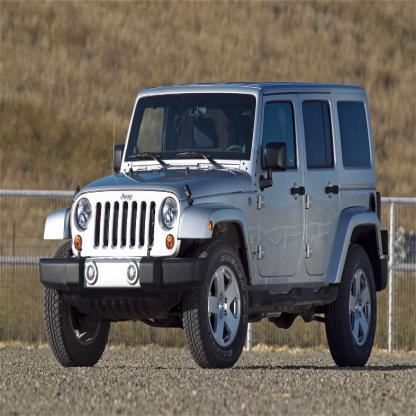Vehicle: (41, 84, 390, 370)
